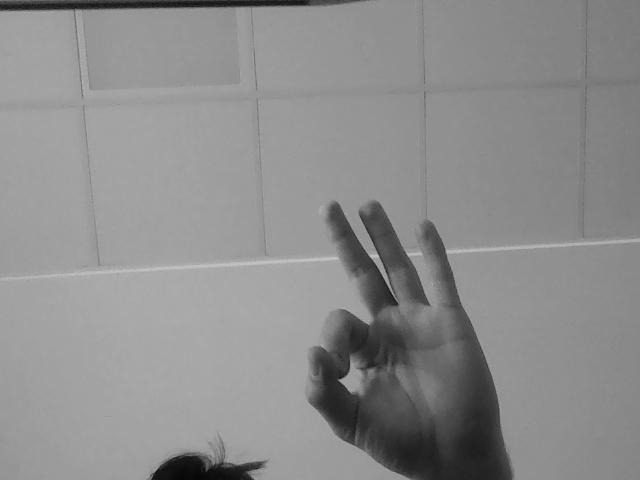OK: (302, 193, 504, 457)
